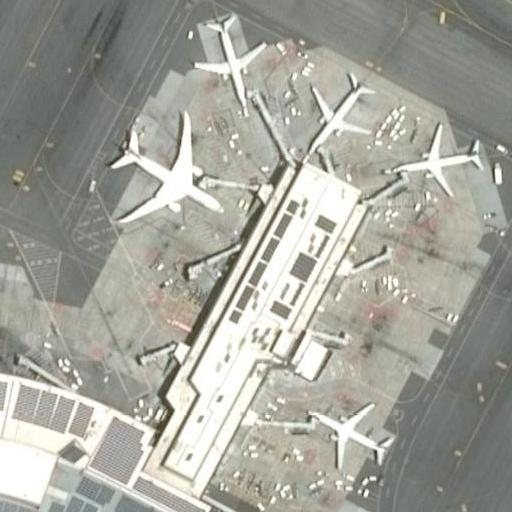Aircraft: (101, 112, 225, 227), (384, 121, 490, 199), (189, 5, 268, 105), (295, 71, 378, 154), (299, 401, 393, 464)
